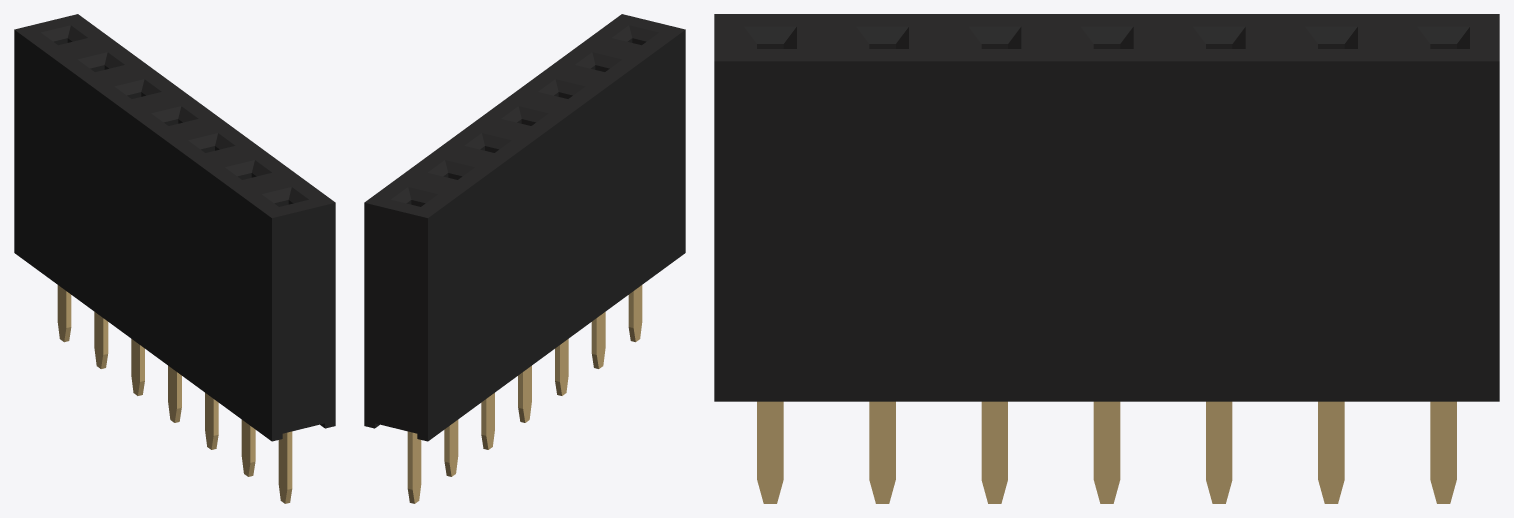
Rendered from PinSocket_1x07_P2.54mm_Vertical.glb.
3 views of the same model, side by side, from view 1: azimuth 30°, elevation 25°; view 2: azimuth 150°, elevation 25°; view 3: azimuth 270°, elevation 25° (orthographic). The views are drawn at different scales.
Visible parts, largest first — view 1: =>[0:1:1:3]; view 2: =>[0:1:1:3]; view 3: =>[0:1:1:3].
Boxes of the visible parts, x1=… form: =>[0:1:1:3]: x1=14, y1=14, x2=335, y2=503; =>[0:1:1:3]: x1=364, y1=14, x2=685, y2=503; =>[0:1:1:3]: x1=714, y1=14, x2=1499, y2=503.
Bounding box in the file's own units: 0.00254 × 0.0116 × 0.0178.
